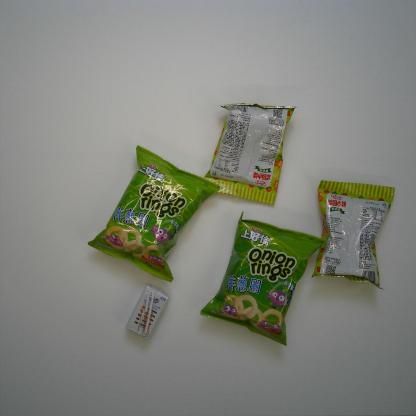Milk: (125, 282, 170, 340)
Puffed Food: (86, 144, 222, 283), (199, 210, 325, 347), (203, 102, 298, 206), (310, 179, 395, 291)
